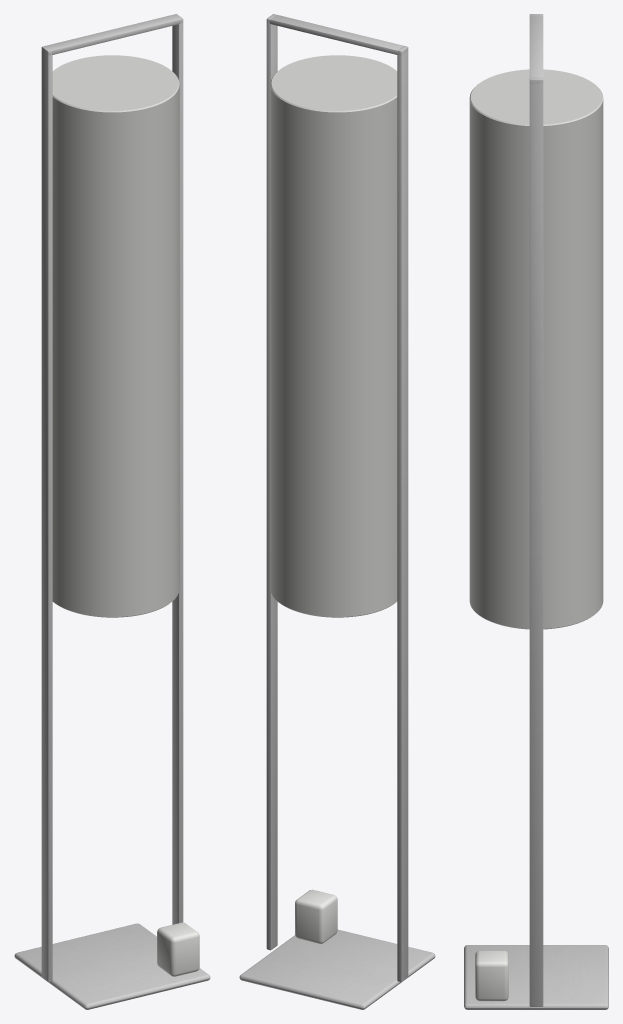
Rendered from recbU2I3VtMVZRDqy.glb.
3 views of the same model, side by side, from view 1: azimuth 30°, elevation 25°; view 2: azimuth 150°, elevation 25°; view 3: azimuth 270°, elevation 25° (orthographic).
Parts seen in each view (by area): view 1: Lampadaire_Corps; view 2: Lampadaire_Corps; view 3: Lampadaire_Corps.
Boxes of the visible parts, x1,y1,x2,y2 form: Lampadaire_Corps: [14, 14, 210, 1009]; Lampadaire_Corps: [239, 14, 435, 1009]; Lampadaire_Corps: [464, 14, 608, 1009].
Size of the model in its own units: 0.28 by 1.85 by 0.2599.
3 materials, 1 textured.
